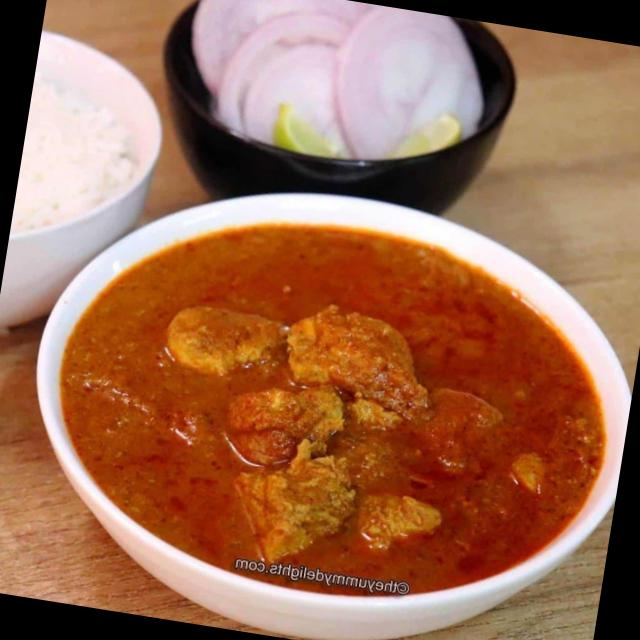chicken: (57, 175, 628, 612)
rice: (10, 65, 135, 252)
